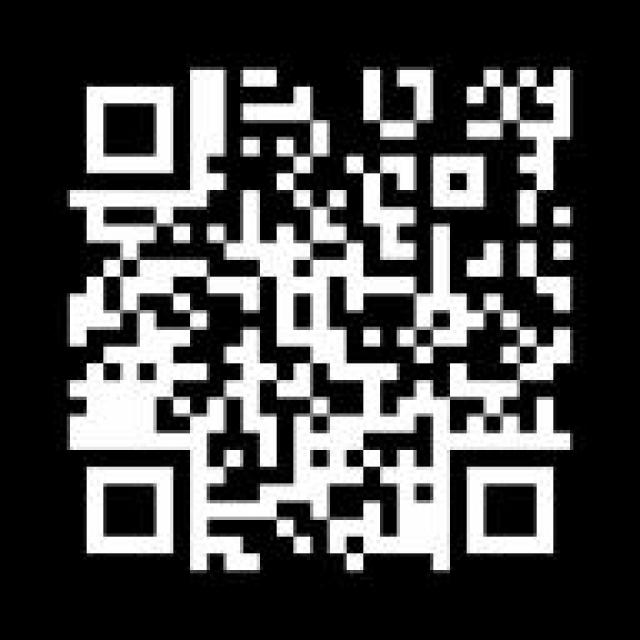QR_CODE: (43, 49, 597, 594)
